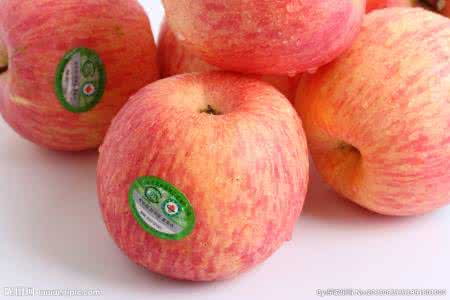apple: (99, 69, 305, 279), (307, 7, 450, 209), (1, 1, 166, 155), (167, 1, 357, 78), (145, 17, 219, 79)
